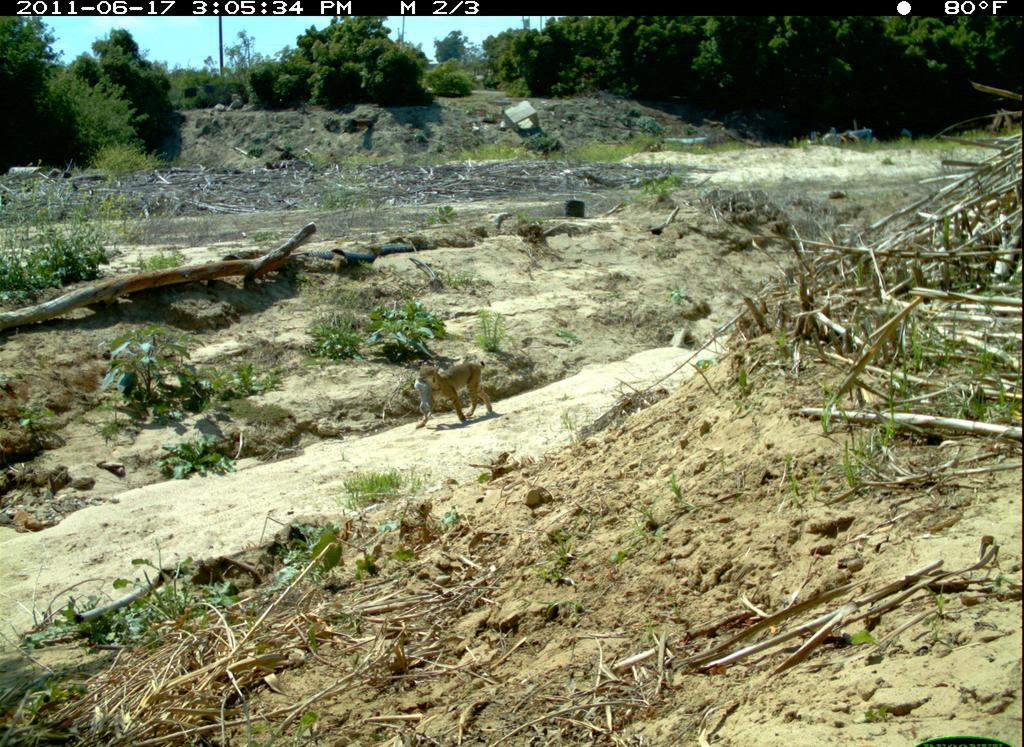bobcat: (404, 344, 525, 441)
